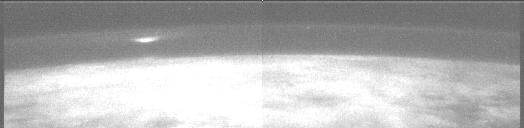negative: (131, 34, 158, 44)
